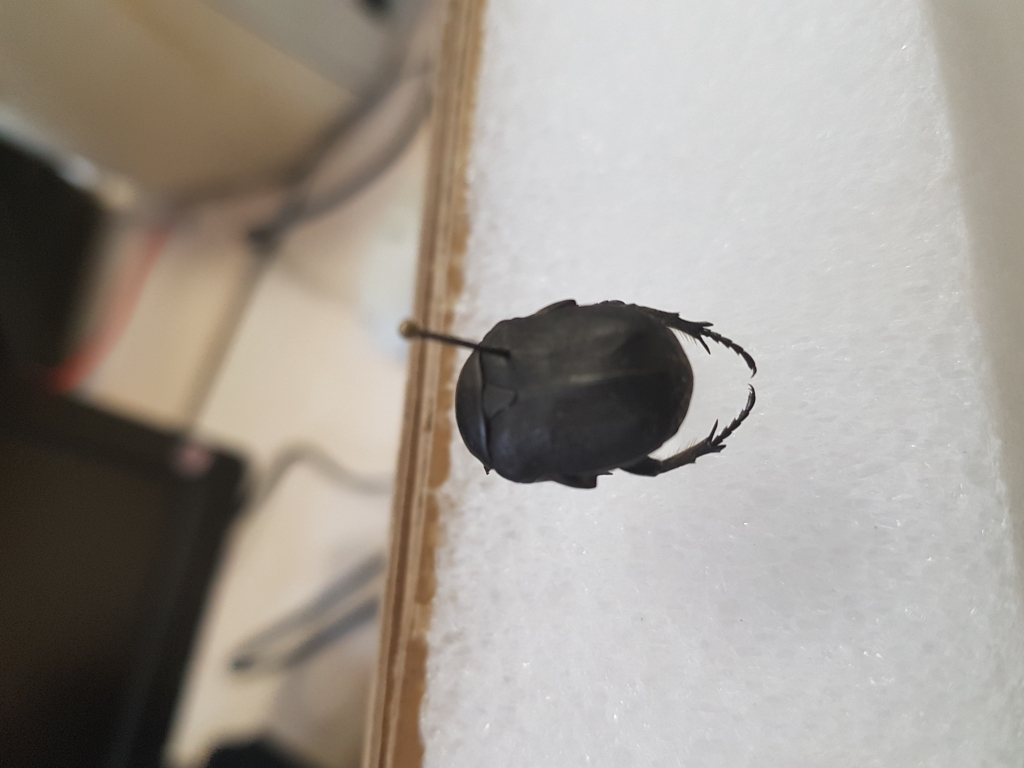Protaetia_asiatica: (455, 291, 767, 497)
